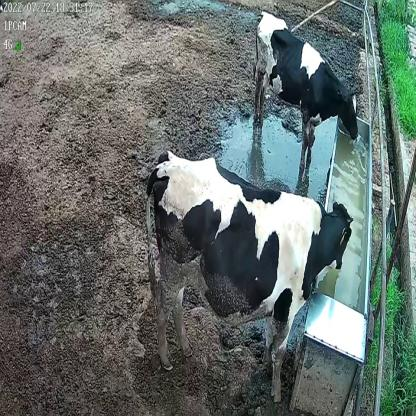cow: (142, 149, 354, 405), (250, 7, 360, 171)
